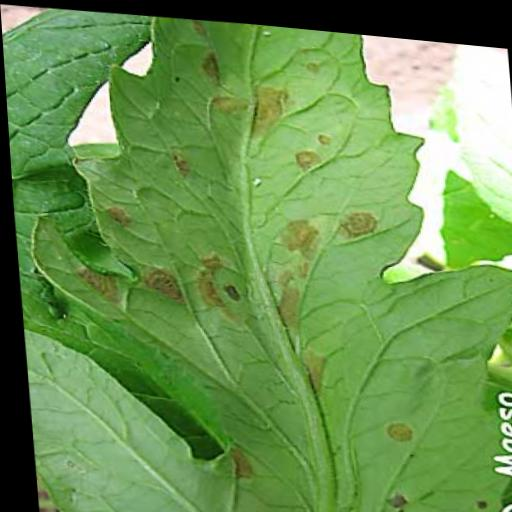Leaf Mold: (51, 4, 512, 512)
